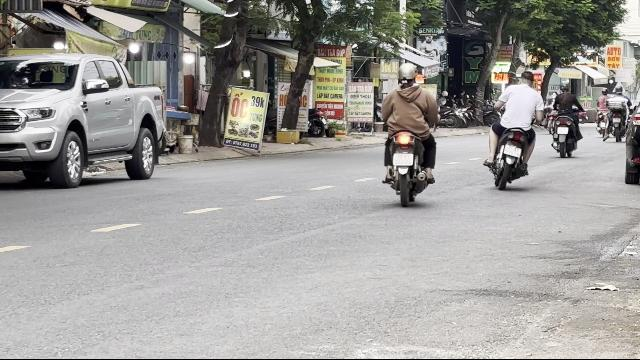helmet: (397, 62, 418, 86)
licenseplate: (393, 152, 412, 164), (504, 146, 522, 158)
motorcyclist: (378, 62, 440, 204), (482, 68, 542, 188)
nohelmet: (520, 70, 534, 86)
